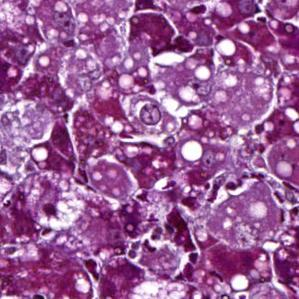ballooning: (19, 169, 90, 231), (126, 280, 197, 298)
